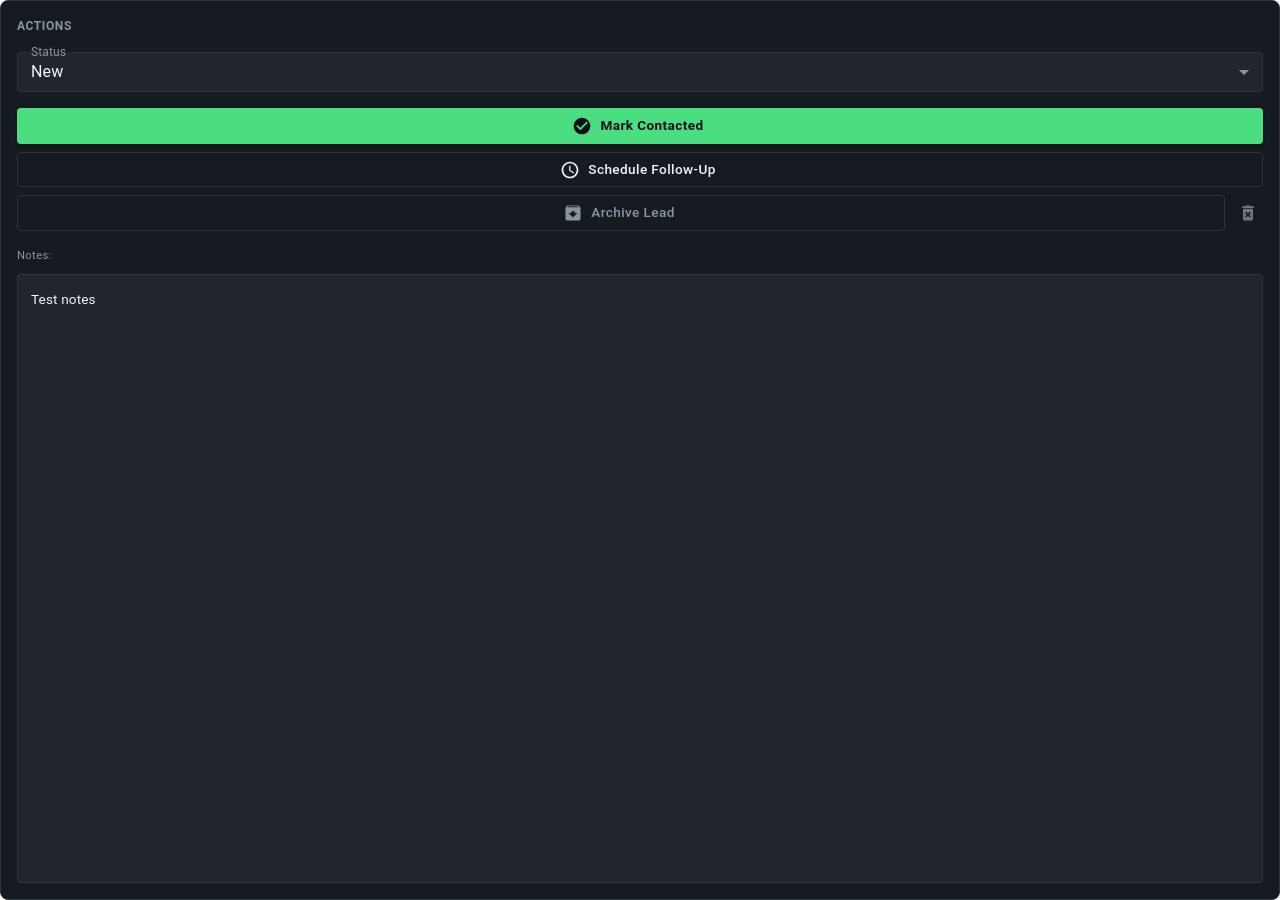
Test: ActionsSection › Delete Permanently icon button › should show loading state in dialog when deleteLoading is true
Note: Open dialog
Click the button with test id "DeleteForeverIcon" at (1248, 213), box [1233,198,1263,228]
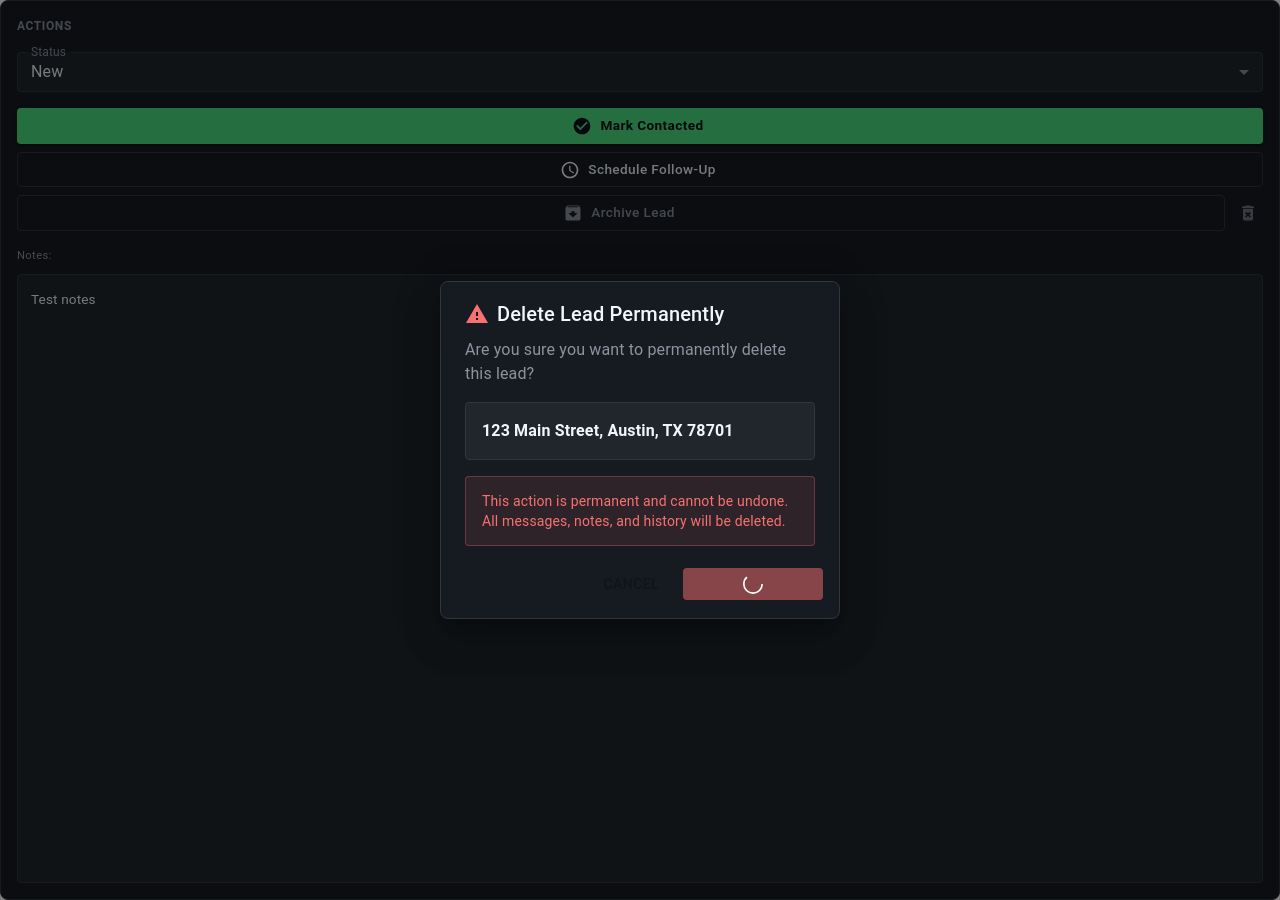
Check: the progress indicator is shown, box [743,574,763,594]
